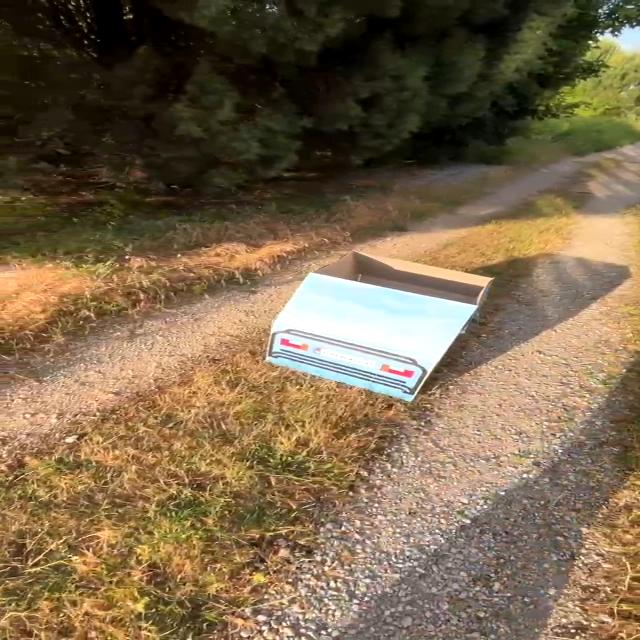blue_car: (236, 235, 512, 409)
